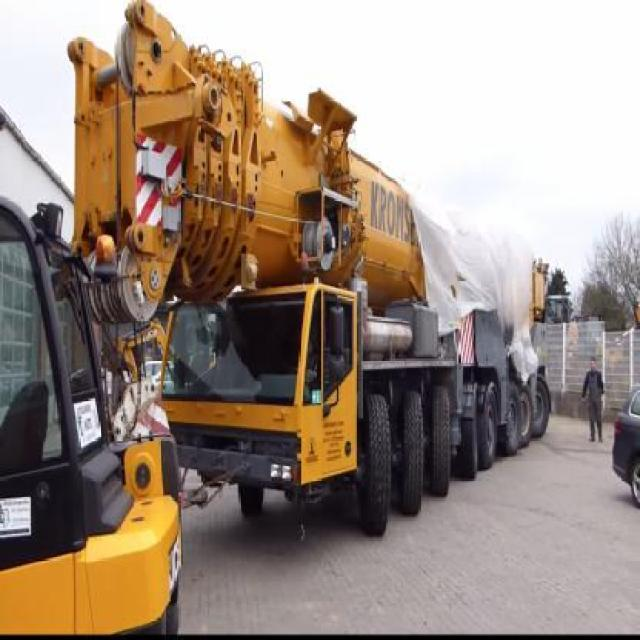Mobile Crane: (65, 1, 550, 536)
